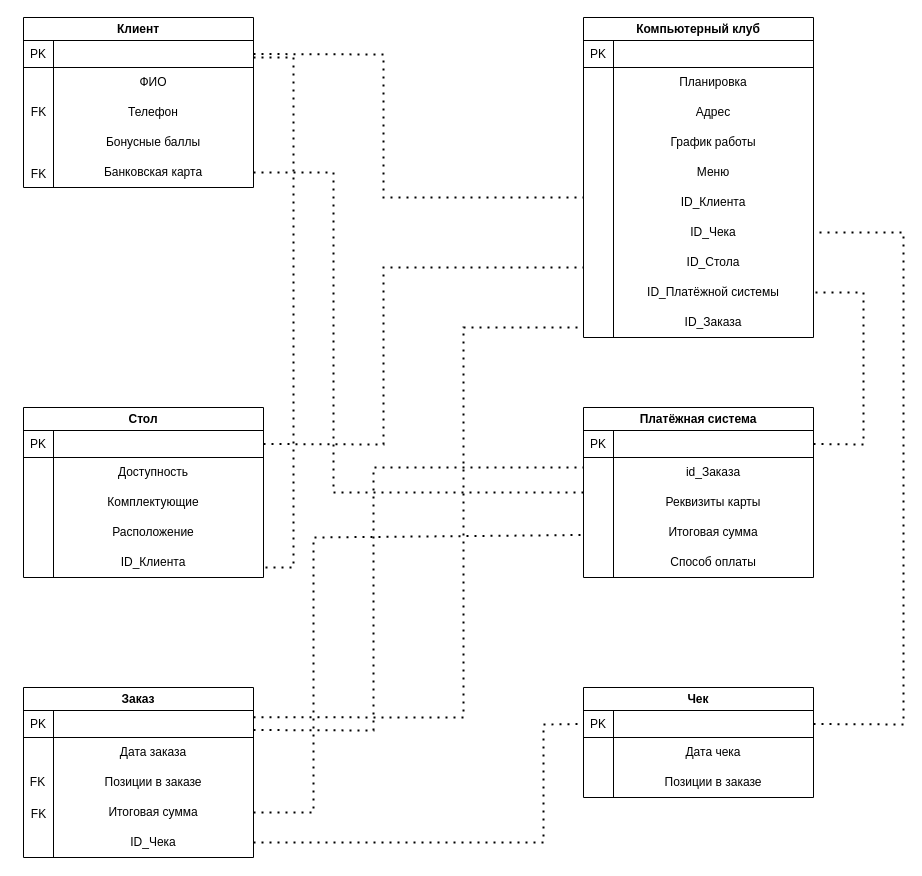
Image size: 922x876. Some labels were removed from this diagram. Here are the shapes that lost their labels. From the top down, the centre of each, then its label:
(153,54): ID Клиента
(713,54): ID Ресторана
(158,444): ID Стола
(713,444): ID Платёжной системы
(153,724): ID Заказа
(713,724): ID Чека
